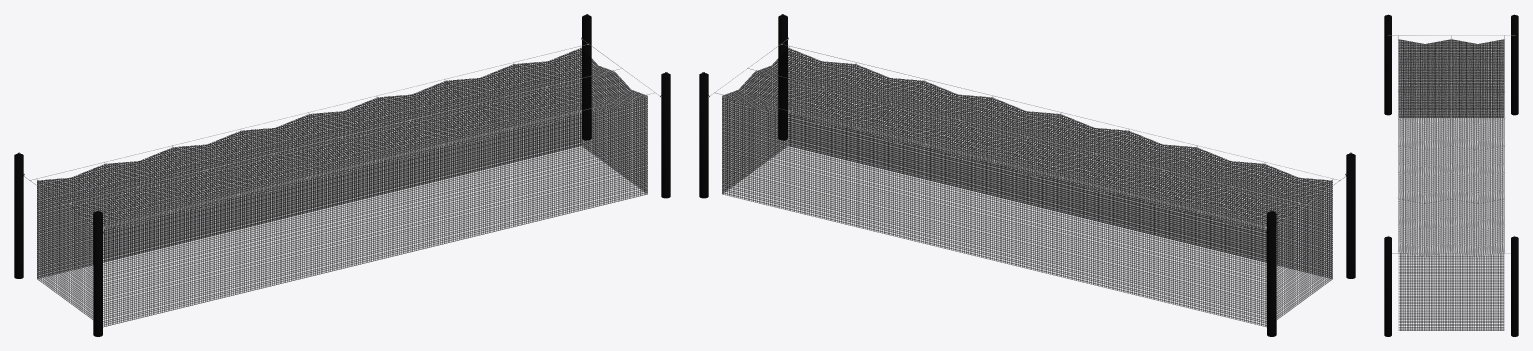
Rendered from Outdoor Pro 70.glb.
3 views of the same model, side by side, from view 1: azimuth 30°, elevation 25°; view 2: azimuth 150°, elevation 25°; view 3: azimuth 270°, elevation 25° (orthographic). The views are drawn at different scales.
Visible parts, largest first — view 1: Playground.002, Playground.010, Frame.012; view 2: Playground.002, Playground.010, Frame.012; view 3: Playground.002, Playground.010, Frame.012.
Part boxes in pixels (x1,y1,x2,y2): Playground.002: (37,48,647,326); Playground.010: (37,48,647,326); Frame.012: (14,14,670,336); Playground.002: (722,48,1332,327); Playground.010: (722,48,1332,326); Frame.012: (699,14,1355,336); Playground.002: (1398,39,1504,330); Playground.010: (1399,40,1503,330); Frame.012: (1384,14,1518,336).
Bounding box in the file's own units: 22.24 × 4.59 × 5.61.
Materials: 4 (1 with a texture image).
